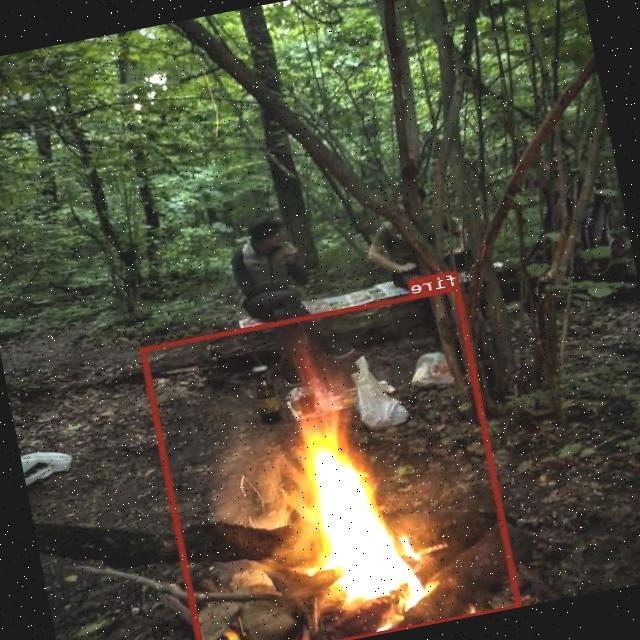fire: (141, 285, 522, 640)
